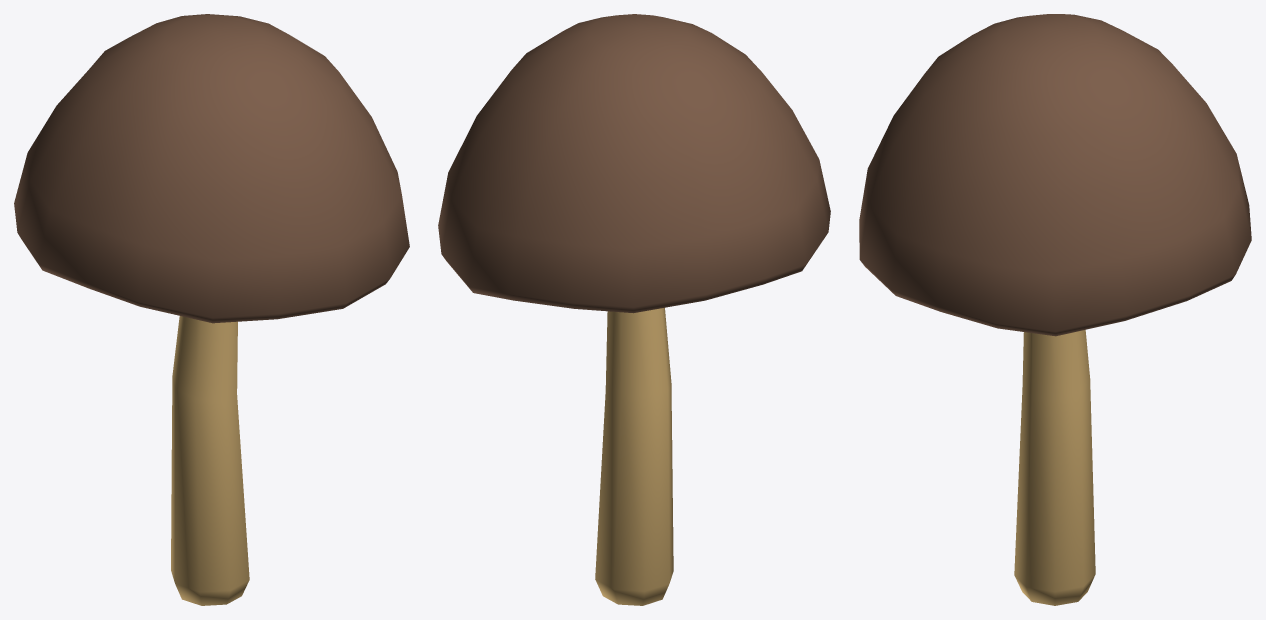
The model's file is mushroom.03.glb.
The picture shows the model from 3 angles, left to right: view 1: azimuth 30°, elevation 25°; view 2: azimuth 150°, elevation 25°; view 3: azimuth 270°, elevation 25°; orthographic projection.
Parts seen in each view (by area): view 1: Cylinder.001; view 2: Cylinder.001; view 3: Cylinder.001.
Boxes of the visible parts, <box> form: Cylinder.001: <box>14,14,409,605</box>; Cylinder.001: <box>438,14,830,605</box>; Cylinder.001: <box>859,14,1251,605</box>.
Size of the model in its own units: 0.1347 by 0.2091 by 0.1322.
1 material, 1 textured.
